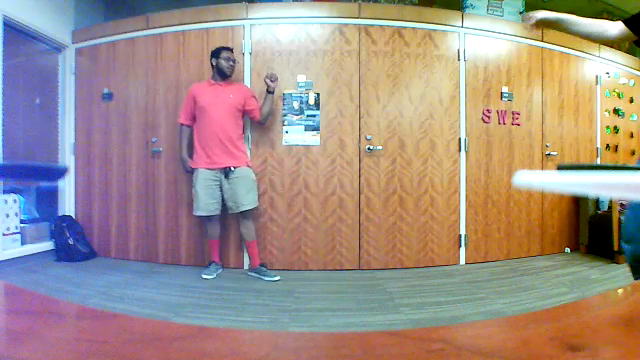up: (262, 61, 280, 95)
